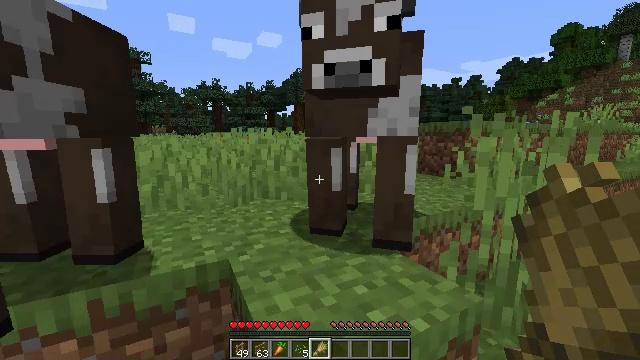cow: (0, 0, 154, 266), (298, 0, 422, 247)
